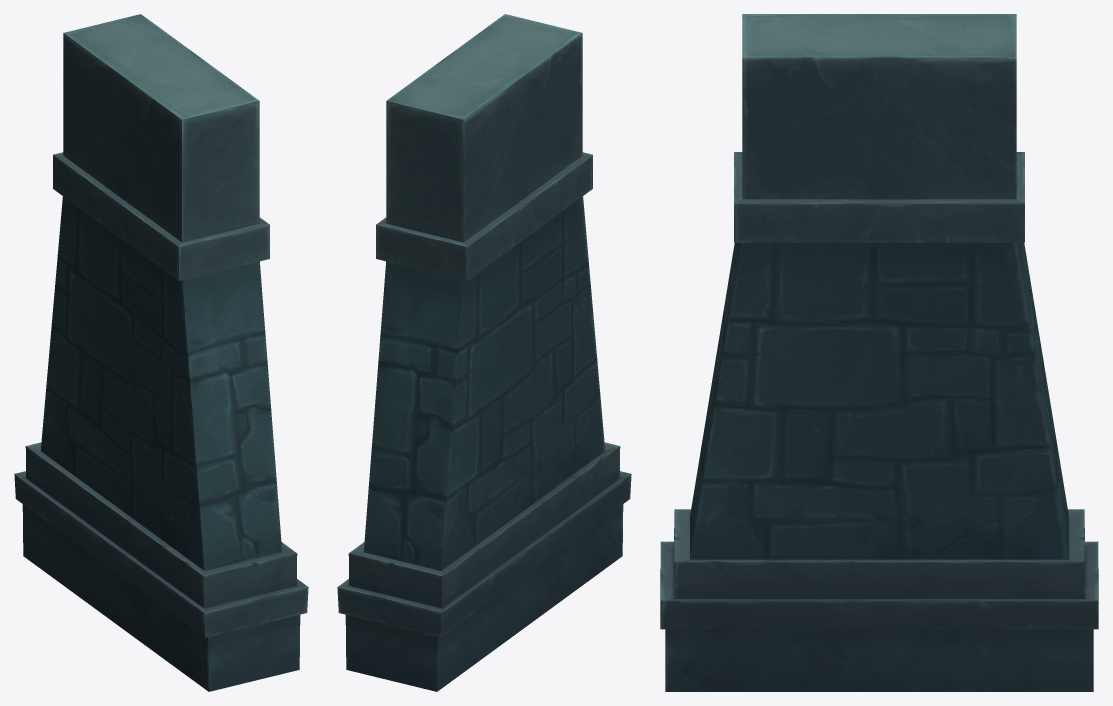
File: Stage_DiXiaCheng_CeQiang.FBX
The picture shows the model from 3 angles, left to right: view 1: azimuth 30°, elevation 25°; view 2: azimuth 150°, elevation 25°; view 3: azimuth 270°, elevation 25°; orthographic projection. The views are drawn at different scales.
Visible parts, largest first — view 1: Stage_DiXiaCheng_CeQiang; view 2: Stage_DiXiaCheng_CeQiang; view 3: Stage_DiXiaCheng_CeQiang.
Boxes of the visible parts, x1,y1,x2,y2 form: Stage_DiXiaCheng_CeQiang: (14,14,308,691); Stage_DiXiaCheng_CeQiang: (337,14,631,691); Stage_DiXiaCheng_CeQiang: (660,14,1098,691).
Bounding box in the file's own units: 208 × 1039 × 654.
